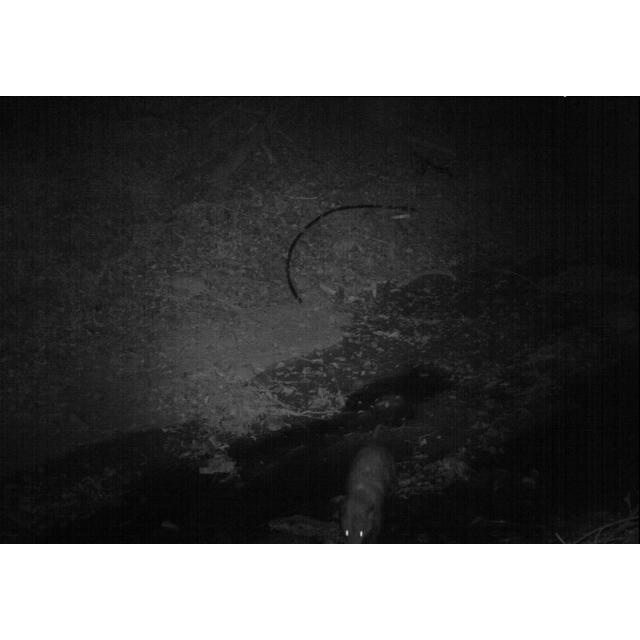animals: (340, 438, 394, 544)
